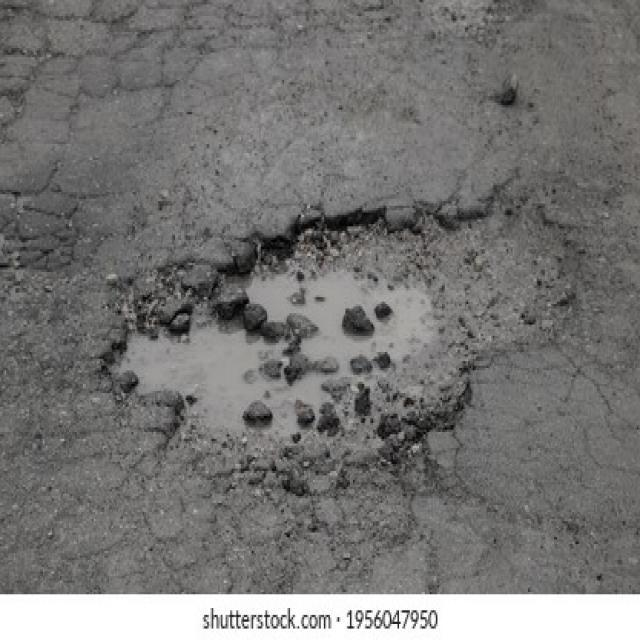Pothole: (102, 201, 494, 482)
